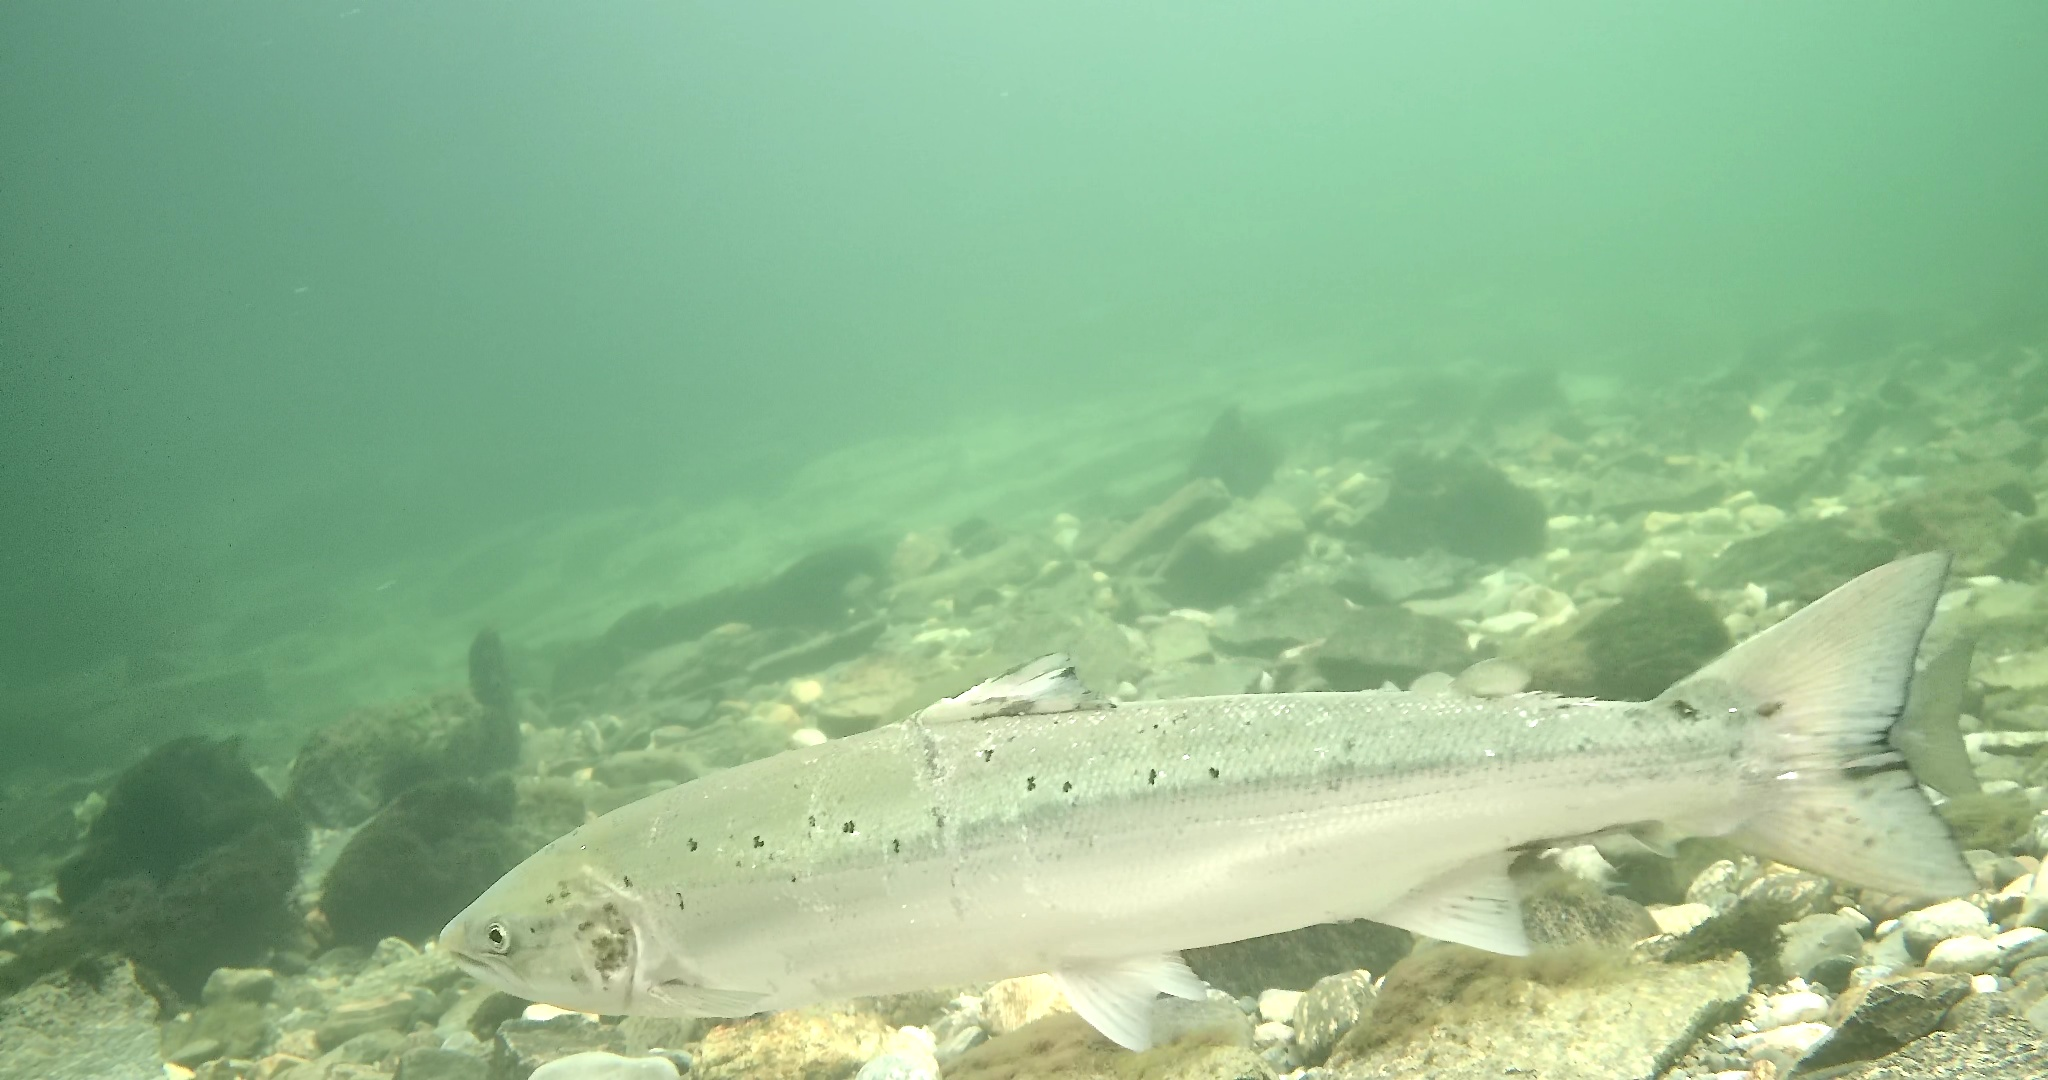salmon: (438, 547, 1987, 1056)
